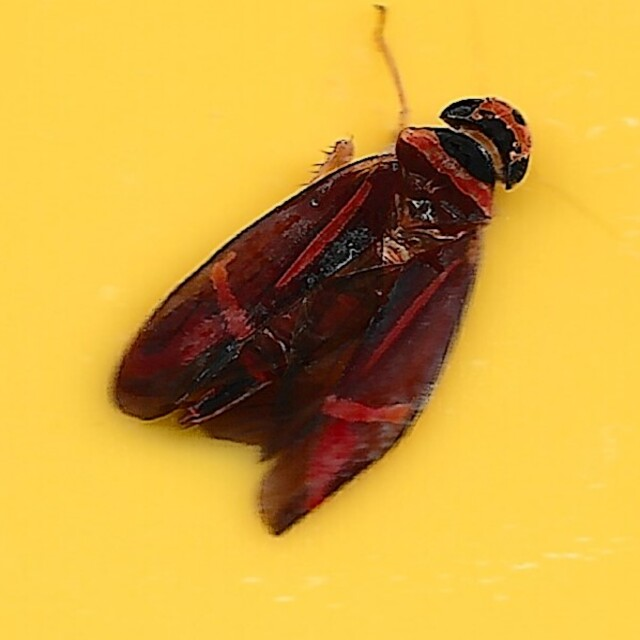Hemiptera: (107, 97, 533, 543)
